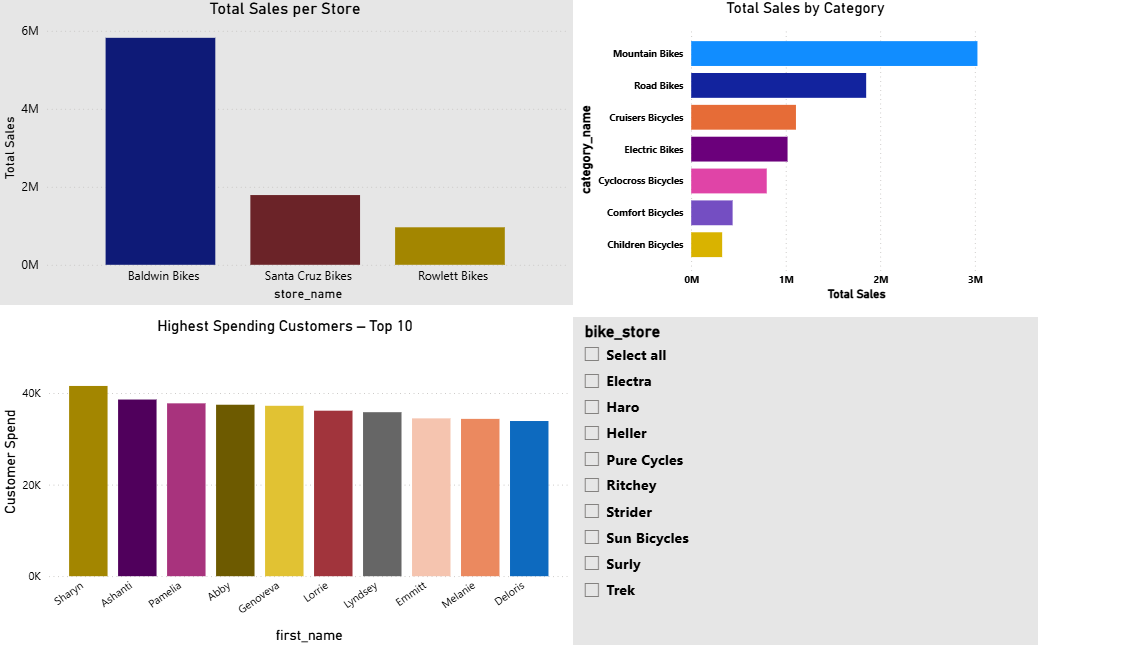

What the dashboard file says about the page in this screenshot:
{"tool":"powerbi","page":{"name":"Page 1","canvas":[1280,720],"ordinal":0},"visuals":[{"type":"columnChart","title":"Total Sales per Store","fields":{"Y":["order_items.Total Sales","order_items.Total Sales"],"Category":["store.store_name"]},"box":[0,0,640,340],"z":0},{"type":"barChart","title":"Total Sales by Category","fields":{"Category":["category.category_name"],"Y":["order_items.Total Sales"],"Series":["category.category_name"]},"box":[640,0,516.7,340],"z":1000},{"type":"columnChart","title":"Highest Spending Customers – Top 10","fields":{"Category":["customer.first_name"],"Y":["brand.Customer Spend"]},"box":[0,353.3,640,366.7],"z":2000},{"type":"slicer","fields":{"Values":["brand.brand_name"]},"box":[640,353.3,516.7,366.7],"z":3000}]}

Visuals, with their boxes in screenshot pixels (x1, y1, x2, y2), scaled from the page's 1280x720 canvas onto the 1147x645 screenshot:
"Total Sales per Store" columnChart: 0:0:574:305
"Total Sales by Category" barChart: 574:0:1037:305
"Highest Spending Customers – Top 10" columnChart: 0:316:574:644
slicer - brand.brand_name: 574:316:1037:644
